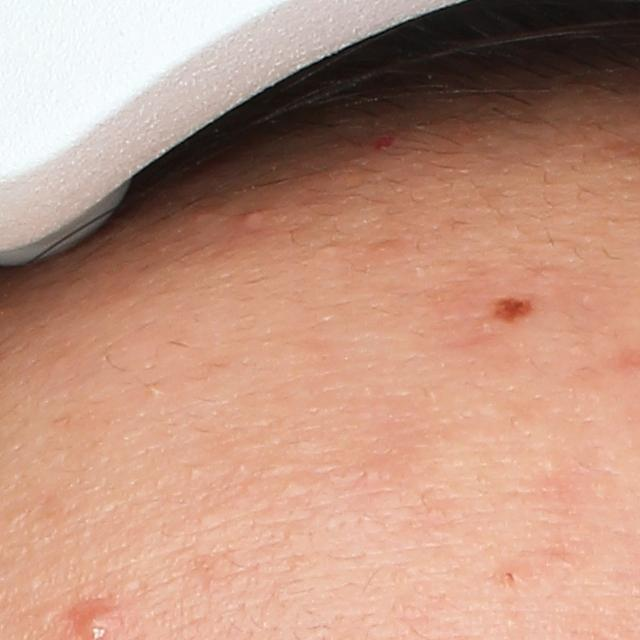nevus: (497, 297, 534, 323)
papule: (242, 210, 264, 226)
